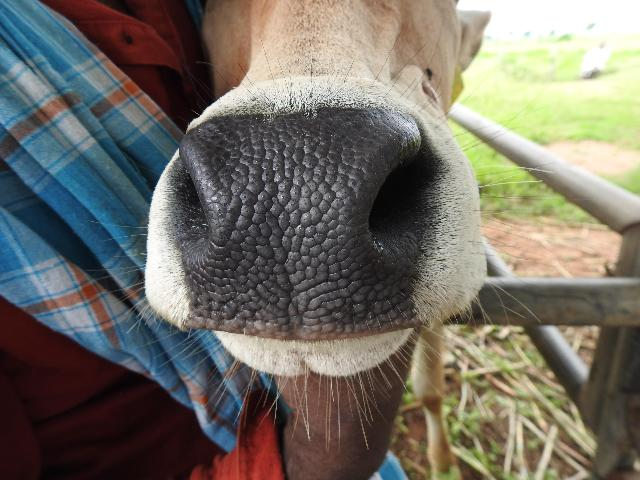Muzzle: (173, 121, 417, 329)
